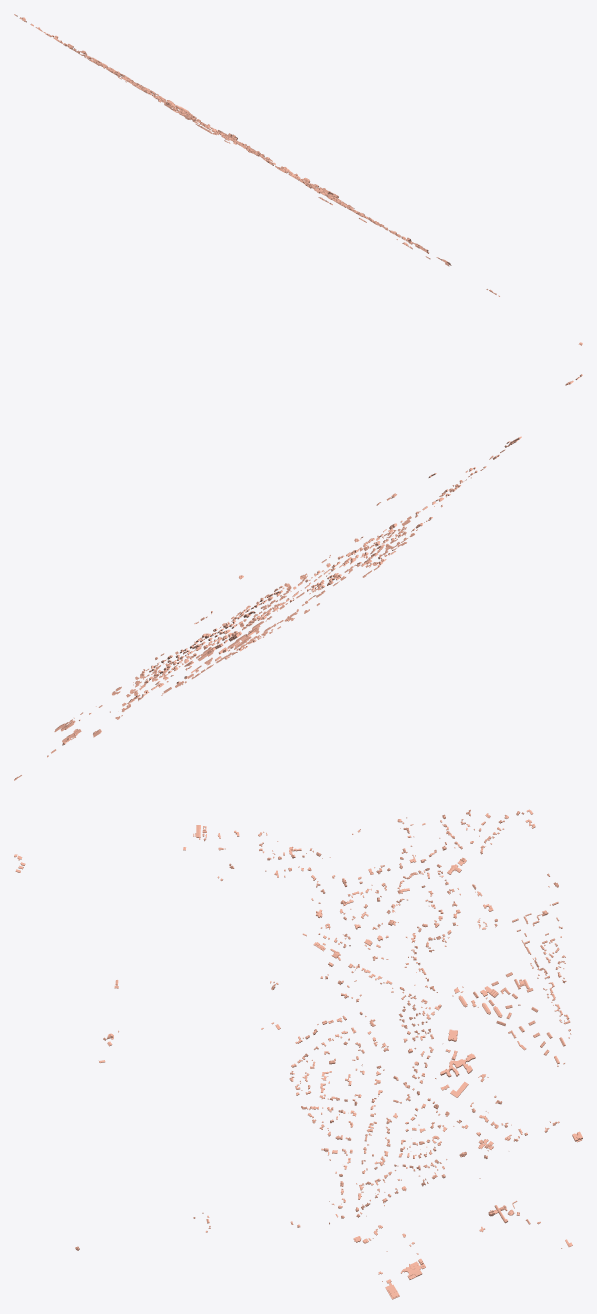
3 views of the same model, one above another, from view 1: azimuth 30°, elevation 25°; view 2: azimuth 150°, elevation 25°; view 3: azimuth 270°, elevation 25° (orthographic). The views are drawn at different scales.
Bounding box in the file's own units: 1961 × 1486 × 2516.
